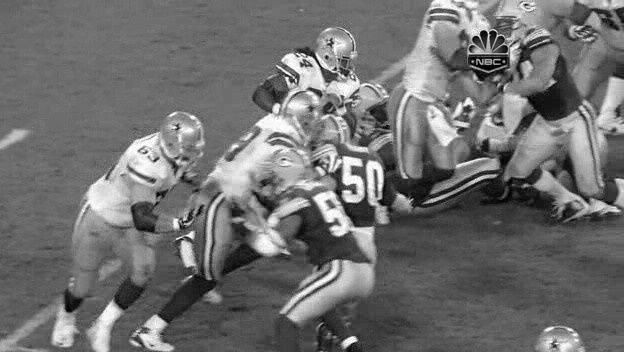person: (323, 28, 358, 73), (322, 28, 357, 73), (324, 28, 359, 73), (323, 27, 358, 72), (323, 29, 358, 74)
target_negative: (333, 80, 539, 294), (346, 134, 514, 188), (363, 292, 616, 317), (546, 146, 591, 273), (519, 163, 543, 326), (540, 111, 555, 301)
